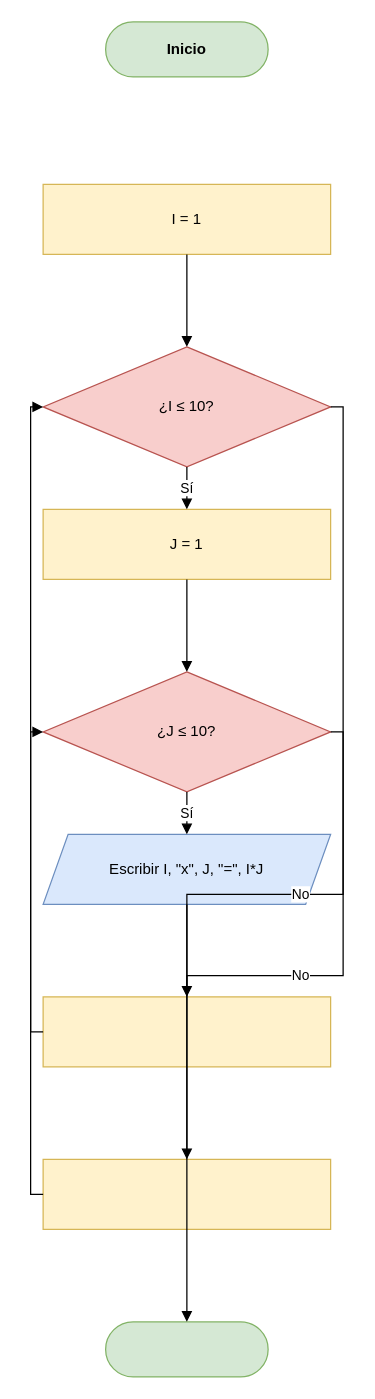
Image size: 375x1399. Some labels were removed from this diagram. The box of each missing label's shape, as (x1, y1, x2, y2) in pixels:
Fin: (104, 1321, 268, 1377)
I = I + 1: (42, 1158, 331, 1229)
J = J + 1: (42, 996, 331, 1067)
